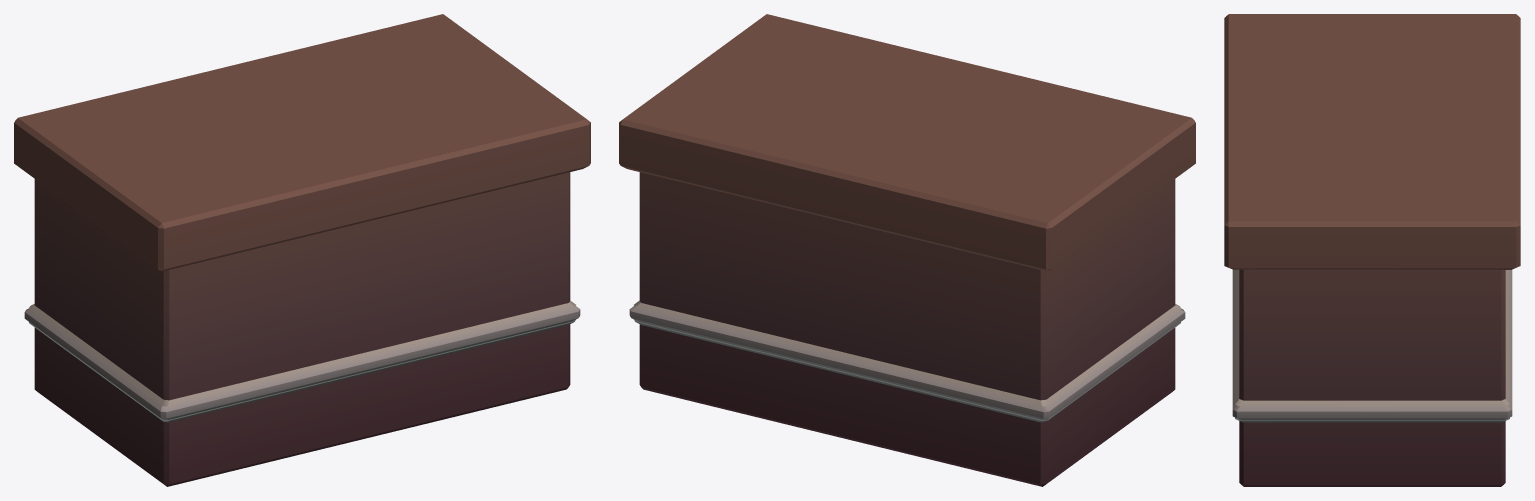
Rendered from SM_Counter.fbx.
3 renders of one model, left to right at view 1: azimuth 30°, elevation 25°; view 2: azimuth 150°, elevation 25°; view 3: azimuth 270°, elevation 25°, orthographic.
Parts seen in each view (by area): view 1: SM_Counter; view 2: SM_Counter; view 3: SM_Counter.
Boxes of the visible parts, left/top/right/bottom form: SM_Counter: left=14, top=14, right=590, bottom=486; SM_Counter: left=619, top=14, right=1195, bottom=486; SM_Counter: left=1224, top=14, right=1520, bottom=486.
Size of the model in its own units: 106 by 64.02 by 63.13.
